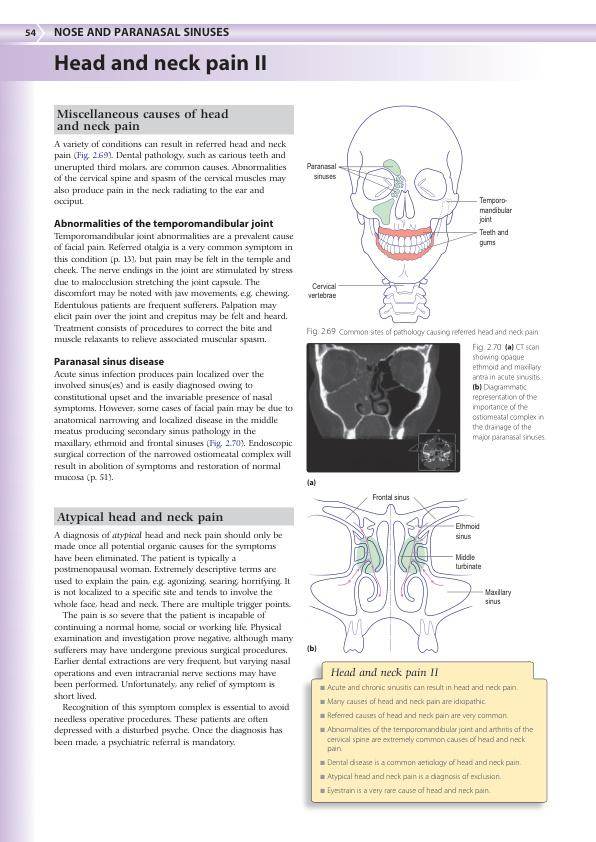caption: (471, 343, 547, 442), (306, 326, 540, 337), (329, 666, 440, 680), (306, 478, 318, 488), (306, 644, 318, 653)
chapter-heading: (54, 52, 268, 77)
header: (53, 26, 230, 38)
image: (300, 100, 518, 325), (301, 491, 514, 659), (305, 341, 461, 474)
list: (317, 683, 534, 796)
section-heading: (56, 108, 230, 134), (56, 511, 224, 525)
sub-section-heading: (53, 218, 275, 231), (53, 356, 166, 367)
text: (53, 531, 293, 747), (53, 232, 295, 346), (53, 370, 294, 484), (53, 139, 288, 208)
